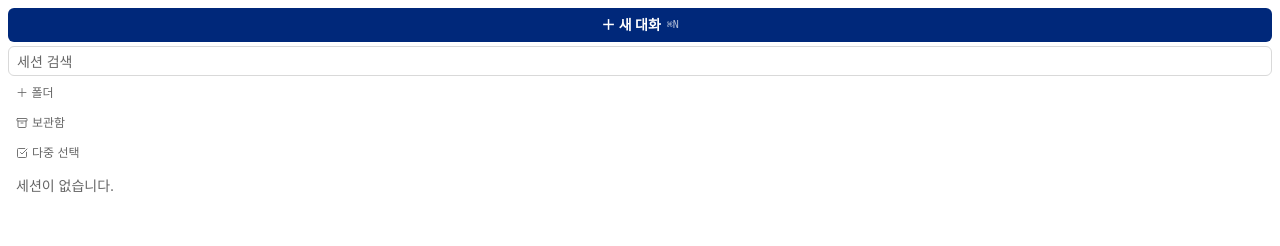
Test: SessionList › ＋ 폴더 버튼으로 새 폴더를 생성한다
Expected: the text "세션이 없습니다." is shown, [16,177,114,194]
Click the button "＋ 폴더": [35, 92] box [8,80,1272,106]
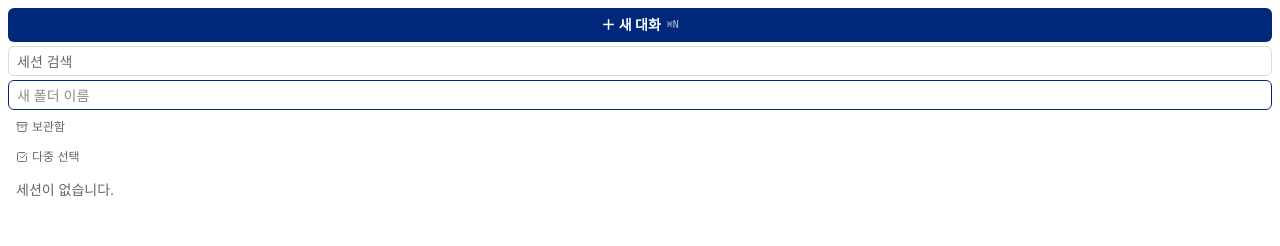
In the field with placeholder "새 폴더 이름": [640, 95] box [8,80,1272,110], type "새 폴더"
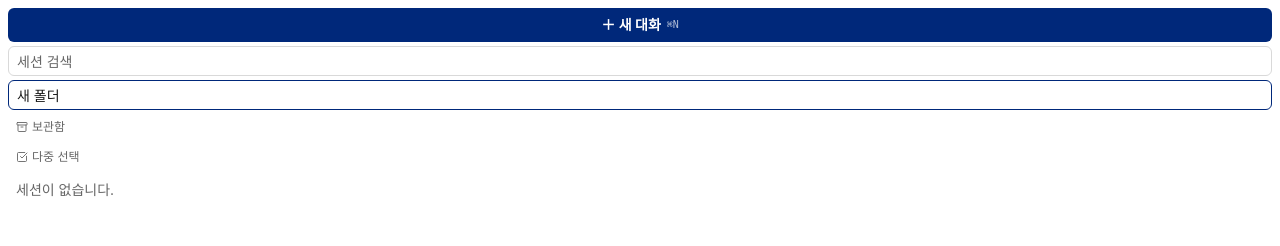
Submit the form with placeholder "새 폴더 이름", box [8,80,1272,110]
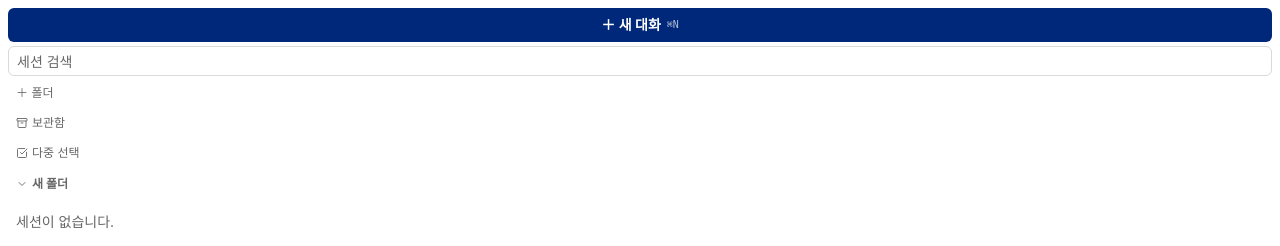
Now the text "새 폴더" is shown, box [32,176,68,192]
